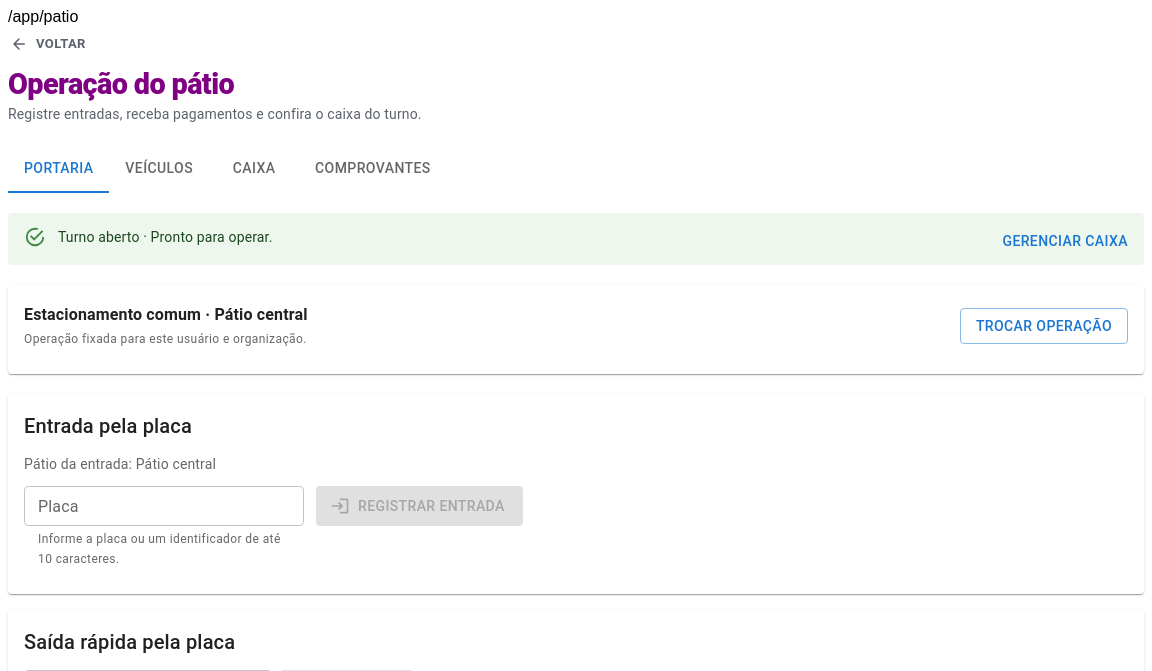
it: Operação do pátio › abre Portaria com entrada e saída, bloqueia offline e não reenvia ao reconectar
The image size is (1152, 671).
Type "ABC1D23" into the field labelled "Placa" at (164, 506), box [24, 486, 304, 526]
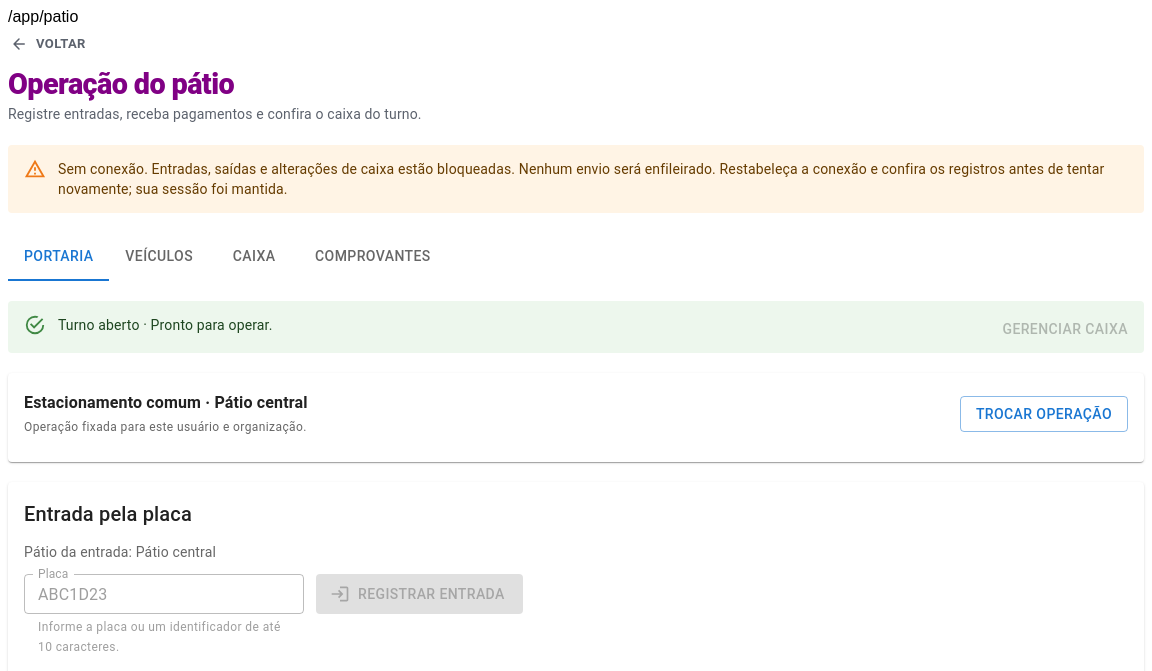
Expected: the button "Registrar entrada" is disabled, [316, 574, 523, 614]
Result: the text "Nenhum envio será enfileirado" is shown at [58, 161, 1104, 197]
Submit the form labelled "Placa", box [24, 567, 523, 654]
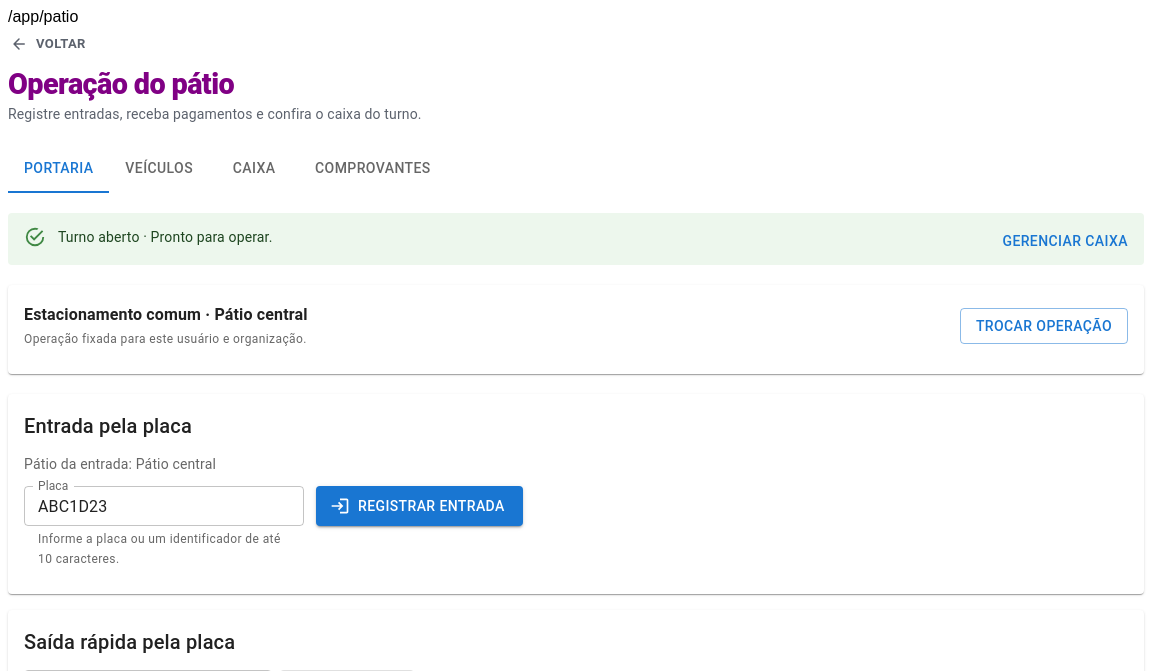
Result: the button "Registrar entrada" is enabled at [316, 486, 523, 526]
